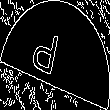P_S: (38, 25, 72, 85)
